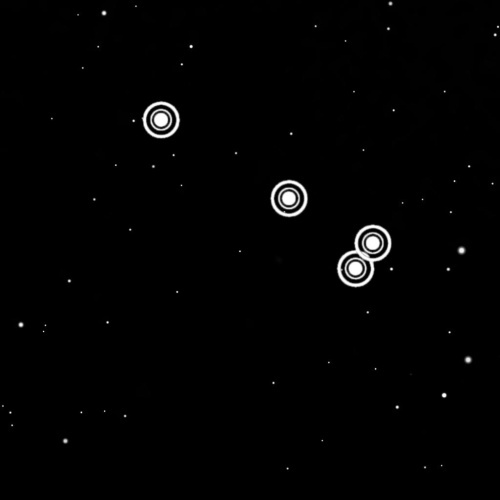sagitta: (136, 90, 401, 296)
